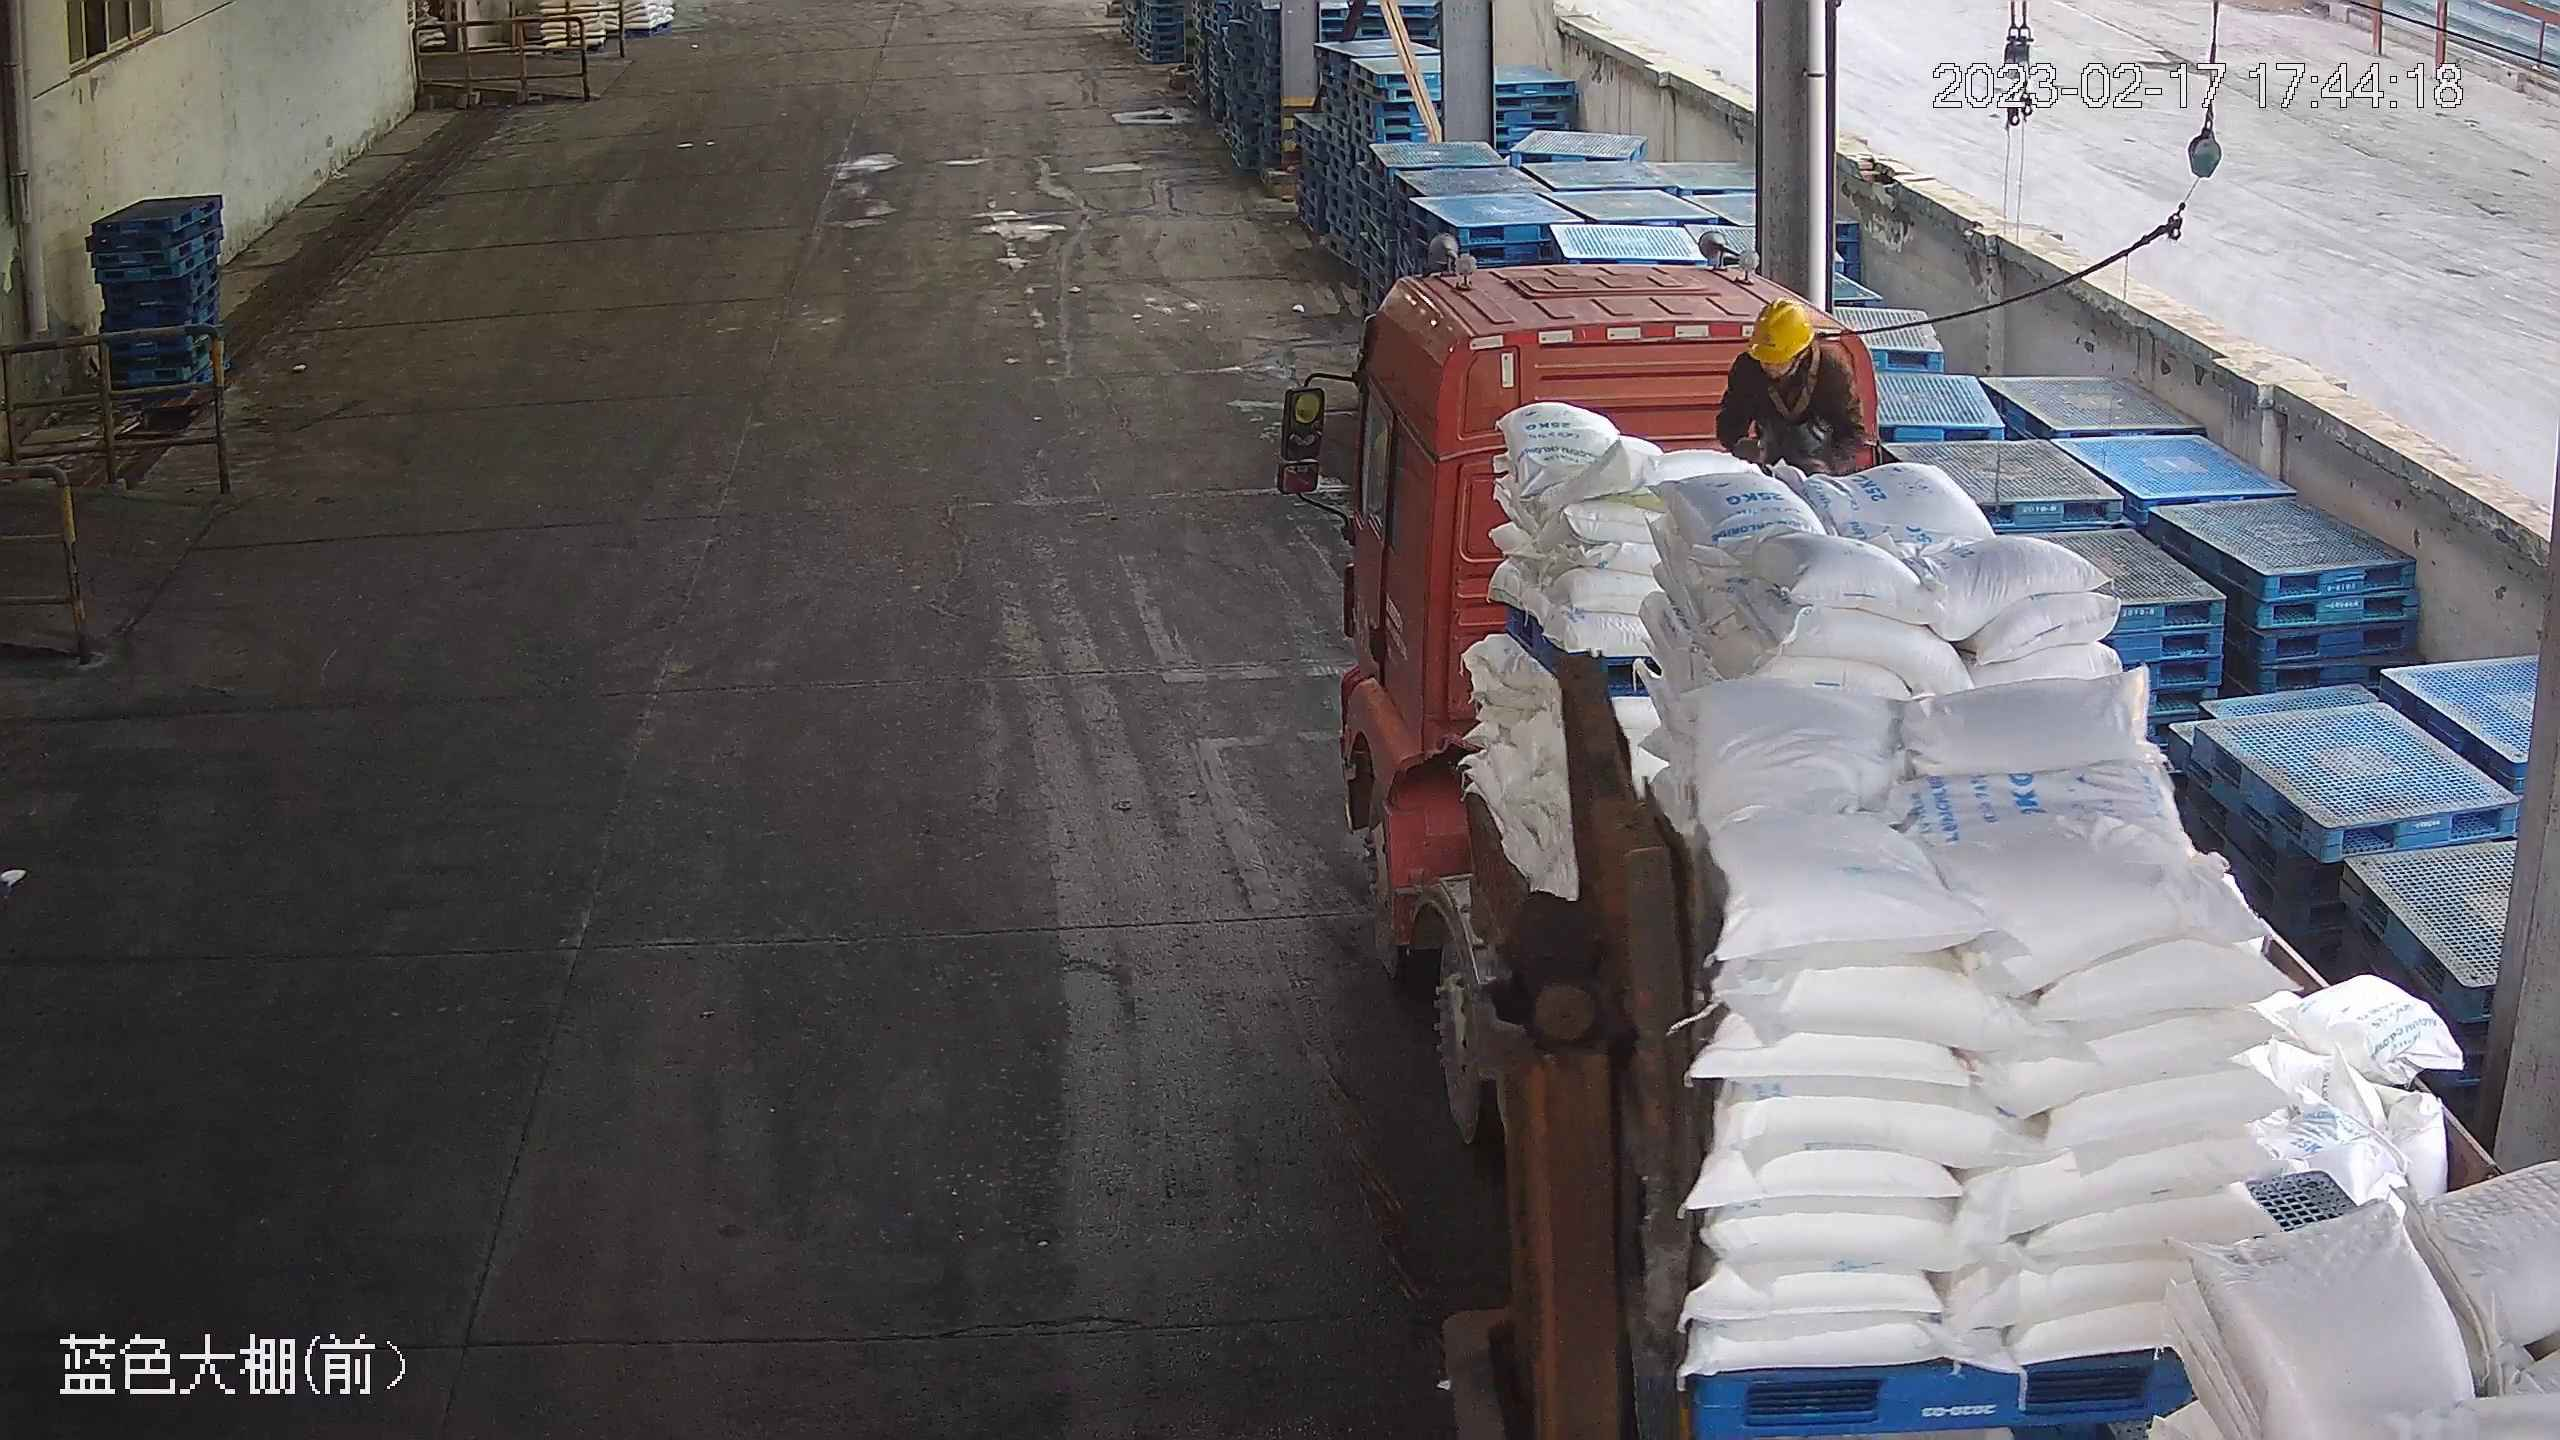belt: (1754, 367, 1849, 437)
head: (1720, 294, 1867, 456)
helmet: (1751, 296, 1817, 369)
truck: (1264, 235, 2560, 1440)
